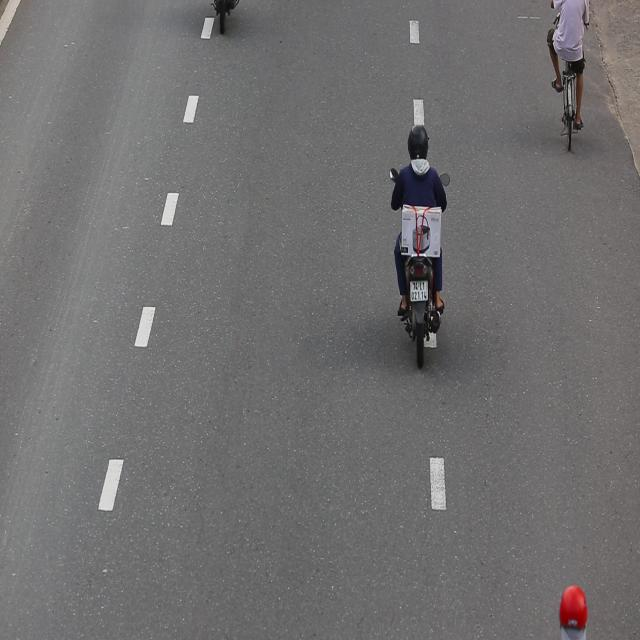motorbike: (389, 126, 450, 370)
